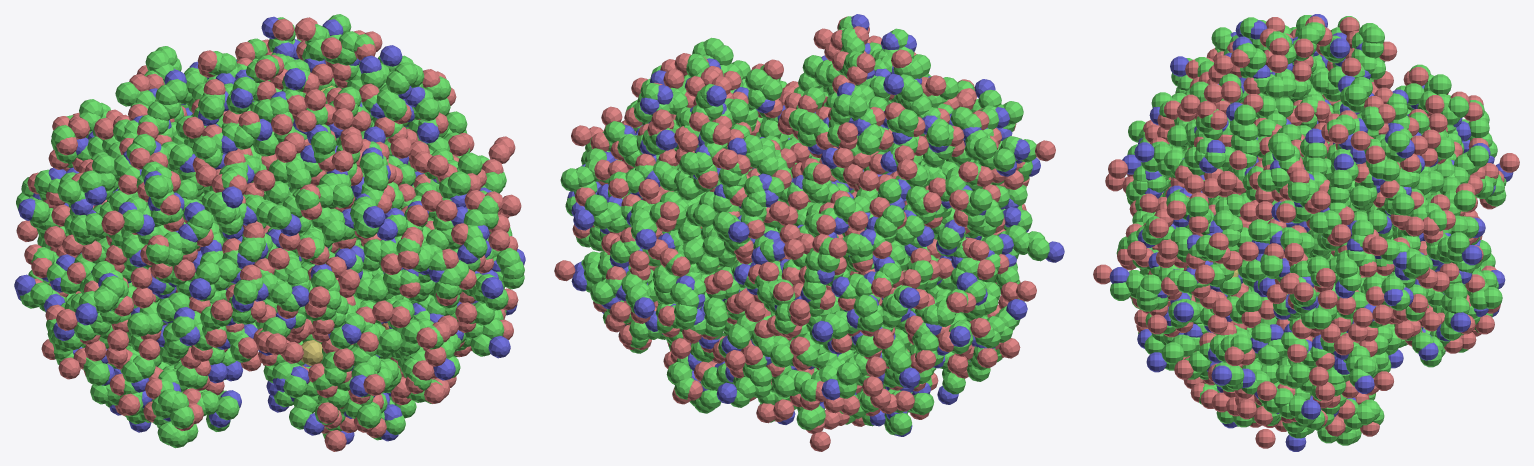
The model's file is 4hhb__spheres__default.glb.
3 views of the same model, side by side, from view 1: azimuth 30°, elevation 25°; view 2: azimuth 150°, elevation 25°; view 3: azimuth 270°, elevation 25° (orthographic). The views are drawn at different scales.
Parts seen in each view (by area): view 1: Renderer Node; view 2: Renderer Node; view 3: Renderer Node.
Part boxes in pixels (box(x1,y1,x2,y2)): Renderer Node: box(14, 14, 525, 451); Renderer Node: box(554, 14, 1064, 451); Renderer Node: box(1093, 14, 1519, 451).
Bounding box in the file's own units: 73.32 × 60.06 × 63.83.
